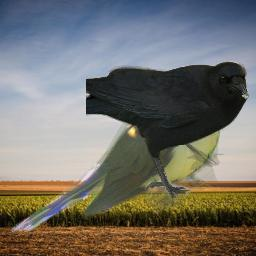Crow: (86, 61, 249, 198)
Cuckoo: (9, 82, 220, 232)
